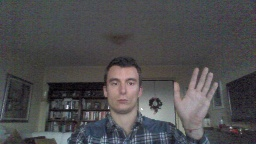Mano_aperta: (170, 61, 220, 129)
